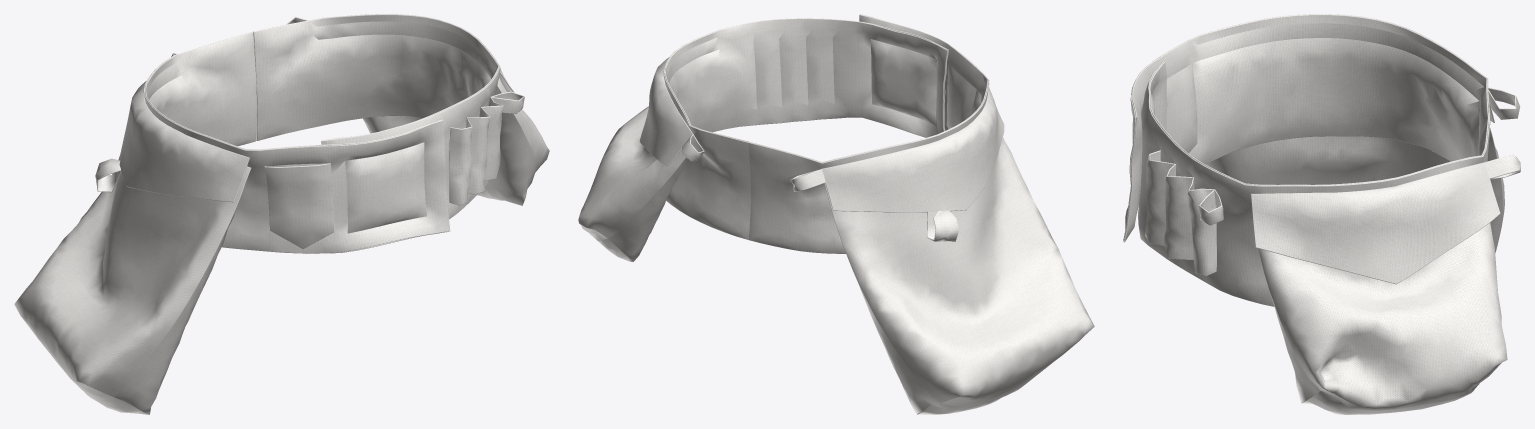
3 views of the same model, side by side, from view 1: azimuth 30°, elevation 25°; view 2: azimuth 150°, elevation 25°; view 3: azimuth 270°, elevation 25° (orthographic). The views are drawn at different scales.
Visible parts, largest first — view 1: Pattern2D_40948 (×2), Pattern2D_16619, Pattern2D_40963 (×2), Pattern2D_23540, Pattern2D_36400, Pattern2D_27654, Pattern2D_36398, Pattern2D_16618, Pattern2D_36379, Pattern2D_40964, Pattern2D_26878; view 2: Pattern2D_16619, Pattern2D_40963 (×2), Pattern2D_40948 (×2), Pattern2D_23540, Pattern2D_36379, Pattern2D_27655, Pattern2D_36398, Pattern2D_16618, Pattern2D_40964, Pattern2D_40965; view 3: Pattern2D_40948 (×2), Pattern2D_36379, Pattern2D_27655, Pattern2D_40963 (×2), Pattern2D_16618, Pattern2D_27654, Pattern2D_36398, Pattern2D_40965, Pattern2D_36399, Pattern2D_26878.
Part boxes in pixels (x1=…): Pattern2D_40948 (×2): x1=143, y1=32, x2=450, y2=253; Pattern2D_16619: x1=14, y1=166, x2=251, y2=399; Pattern2D_40963 (×2): x1=253, y1=14, x2=500, y2=219; Pattern2D_23540: x1=119, y1=81, x2=249, y2=202; Pattern2D_36400: x1=264, y1=163, x2=334, y2=249; Pattern2D_27654: x1=449, y1=97, x2=503, y2=205; Pattern2D_36398: x1=362, y1=86, x2=536, y2=205; Pattern2D_16618: x1=80, y1=182, x2=245, y2=414; Pattern2D_36379: x1=497, y1=78, x2=549, y2=172; Pattern2D_40964: x1=95, y1=155, x2=121, y2=192; Pattern2D_26878: x1=491, y1=91, x2=524, y2=113; Pattern2D_16619: x1=824, y1=137, x2=1094, y2=405; Pattern2D_40963 (×2): x1=663, y1=18, x2=948, y2=239; Pattern2D_40948 (×2): x1=748, y1=14, x2=989, y2=253; Pattern2D_23540: x1=822, y1=87, x2=1004, y2=212; Pattern2D_36379: x1=578, y1=106, x2=686, y2=241; Pattern2D_27655: x1=639, y1=57, x2=692, y2=166; Pattern2D_36398: x1=598, y1=158, x2=687, y2=261; Pattern2D_16618: x1=827, y1=192, x2=1040, y2=414; Pattern2D_40964: x1=927, y1=210, x2=959, y2=241; Pattern2D_40965: x1=790, y1=169, x2=825, y2=191; Pattern2D_40948 (×2): x1=1123, y1=14, x2=1490, y2=242; Pattern2D_36379: x1=1258, y1=223, x2=1507, y2=410; Pattern2D_27655: x1=1251, y1=162, x2=1500, y2=284; Pattern2D_40963 (×2): x1=1138, y1=61, x2=1490, y2=306; Pattern2D_16618: x1=1205, y1=129, x2=1503, y2=252; Pattern2D_27654: x1=1145, y1=150, x2=1216, y2=276; Pattern2D_36398: x1=1261, y1=263, x2=1479, y2=414; Pattern2D_40965: x1=1488, y1=87, x2=1520, y2=119; Pattern2D_36399: x1=1484, y1=155, x2=1520, y2=179; Pattern2D_26878: x1=1198, y1=189, x2=1223, y2=225.
Size of the model in its own units: 38.07 by 20.66 by 23.17.
